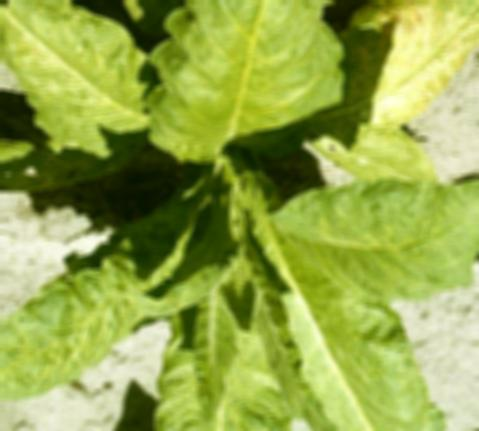Tomato leaf mosaic virus: (0, 192, 209, 403), (141, 0, 347, 160), (0, 0, 145, 179), (280, 166, 479, 287)
